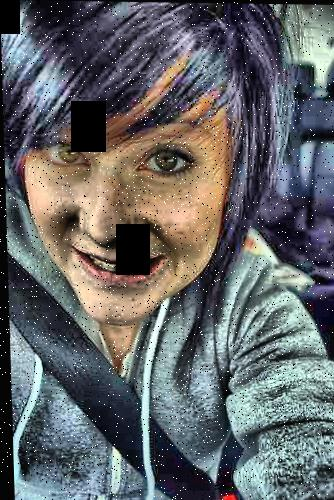seatbelt: (24, 251, 215, 494)
